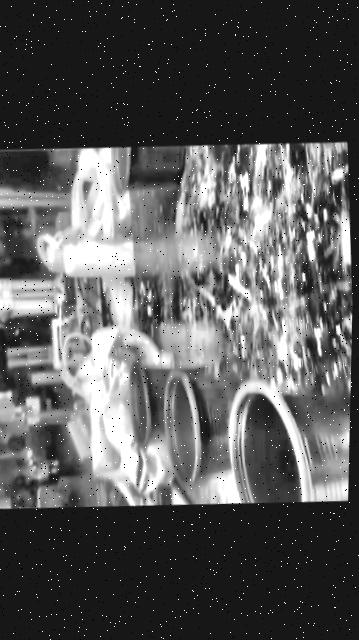pot: (223, 358, 351, 507), (163, 369, 241, 483), (128, 364, 199, 444), (110, 145, 183, 193)
